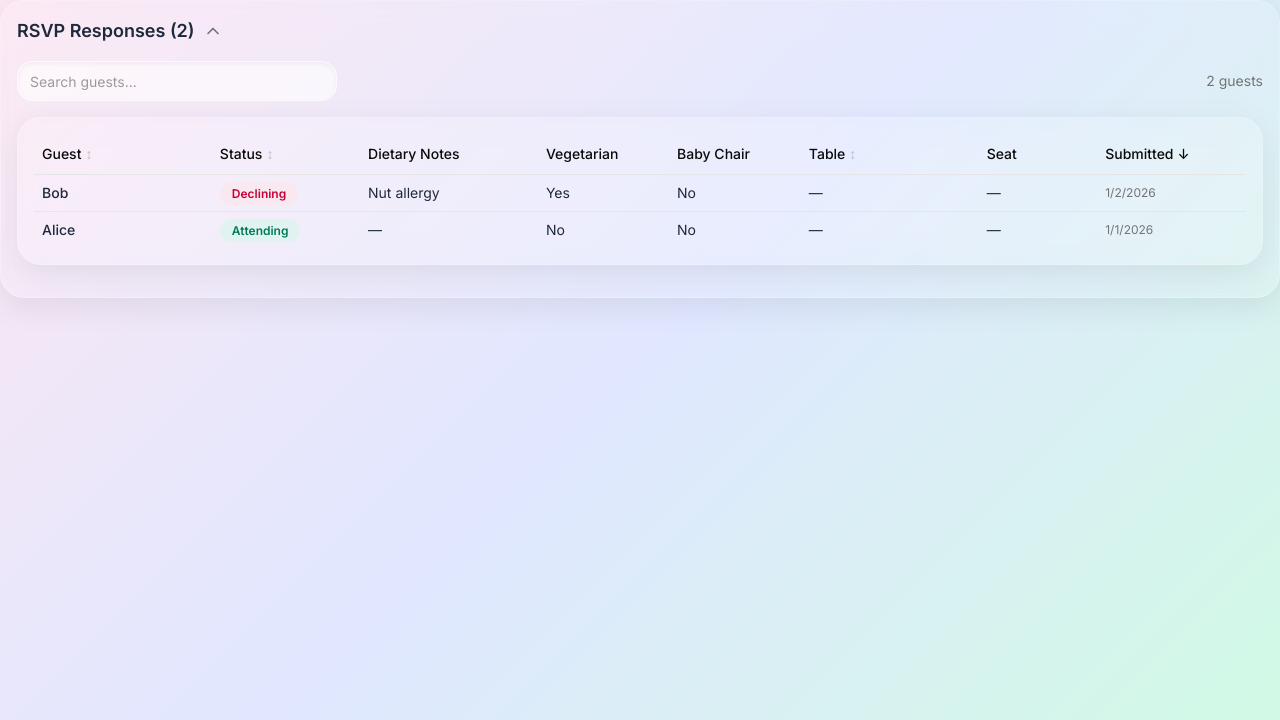
it: RSVPSection › collapses on toggle click
Click the button "RSVP Responses (2)": x=120, y=31 [17, 17, 222, 45]
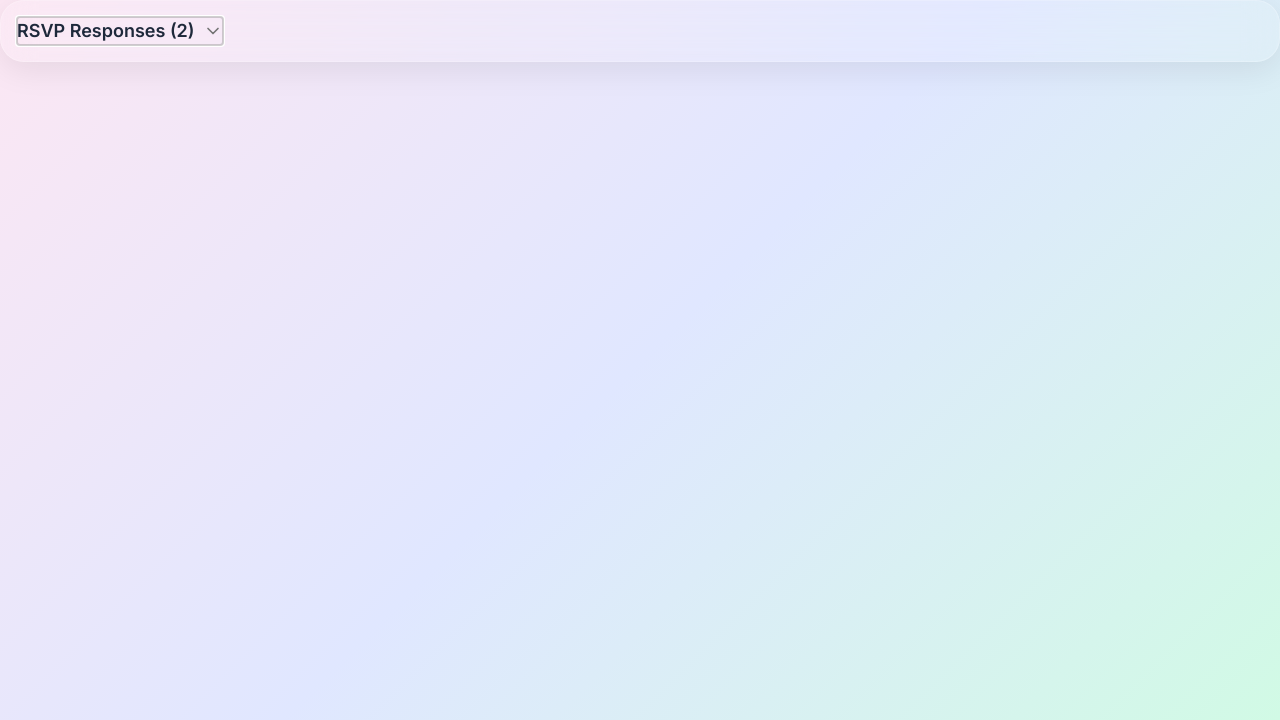
Expected: the text "Alice" is gone
